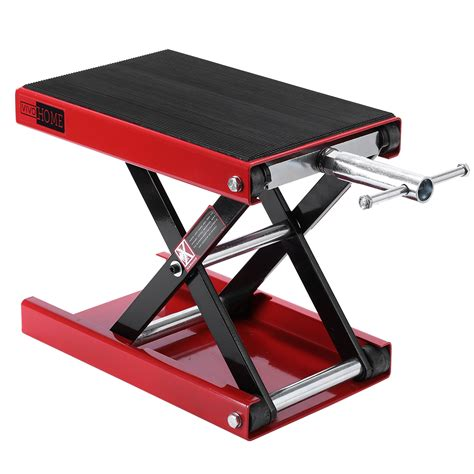Scissor Lift: (15, 46, 474, 442)
